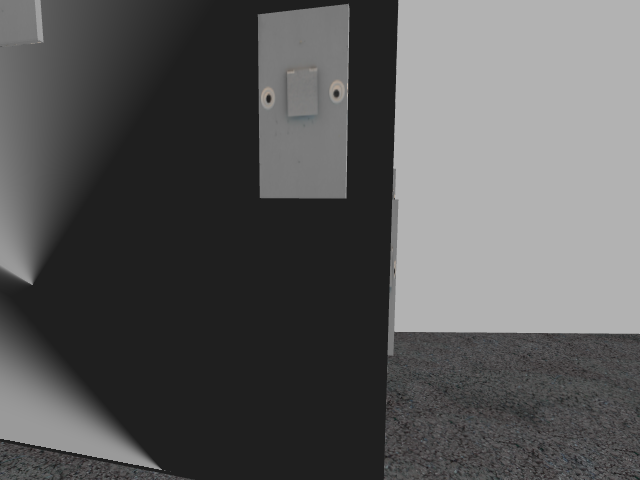facade: (259, 65, 345, 120)
